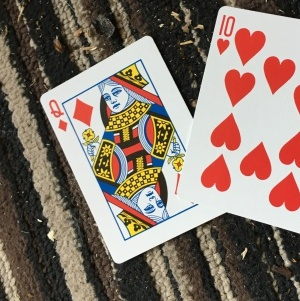card: (39, 36, 192, 265)
